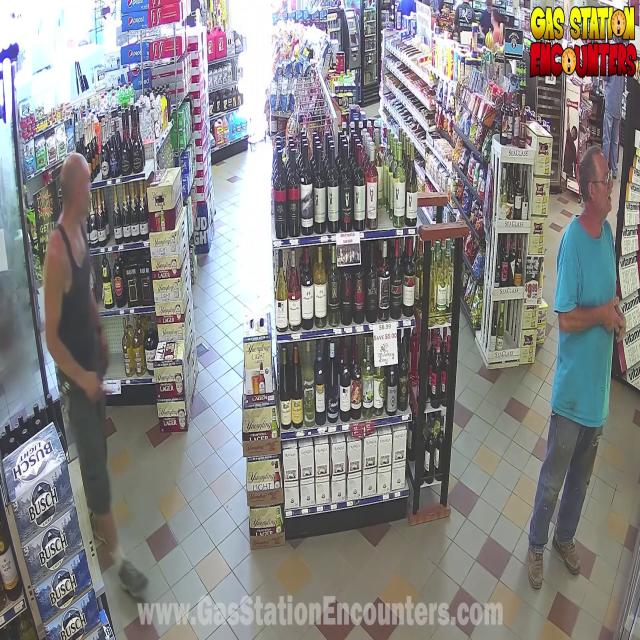Product: (83, 363, 118, 398)
normal: (520, 128, 640, 578)
shoplifting: (24, 135, 144, 532)
